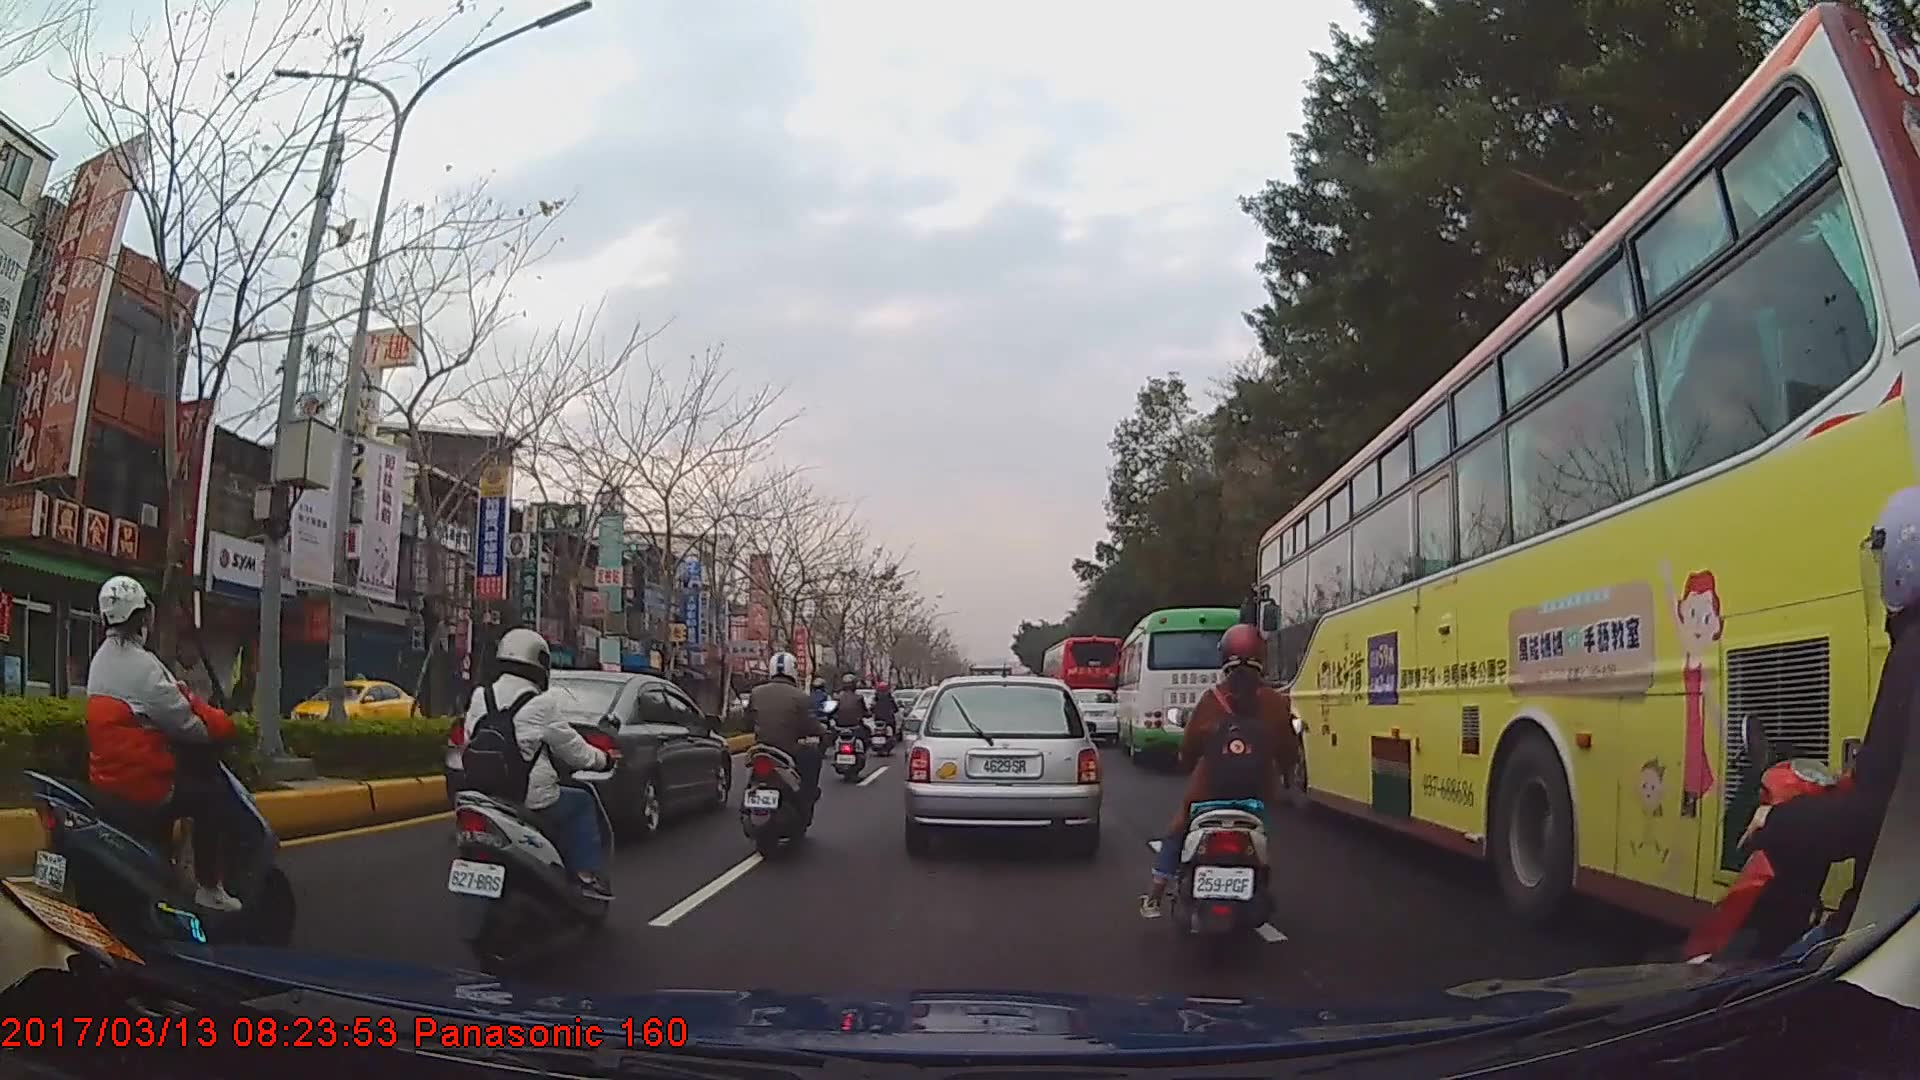rider: (1678, 494, 1920, 1045), (18, 572, 289, 969), (449, 628, 622, 966), (1149, 623, 1309, 970), (740, 650, 830, 862), (830, 674, 871, 783), (870, 680, 900, 757), (806, 675, 838, 742)
vehicle: (1257, 11, 1920, 941), (443, 666, 732, 839), (907, 671, 1099, 852), (1115, 605, 1261, 766), (283, 668, 422, 744), (1043, 633, 1129, 736)
